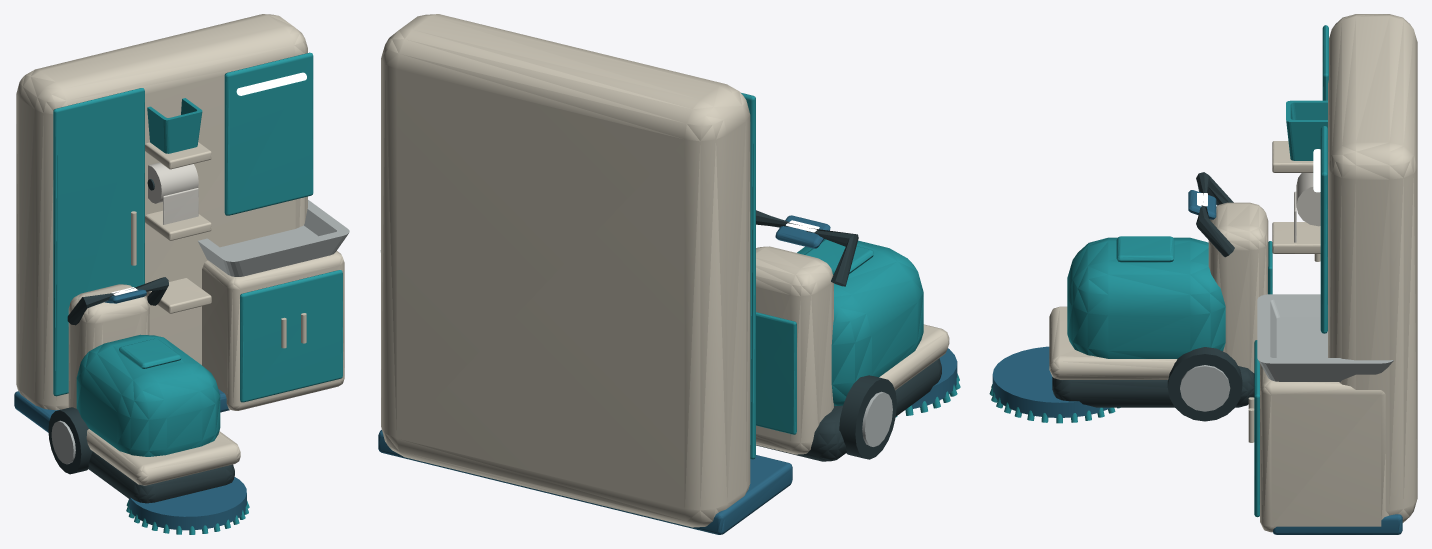
File: 10_janitor_advanced_assembly.glb
The picture shows the model from 3 angles, left to right: view 1: azimuth 30°, elevation 25°; view 2: azimuth 150°, elevation 25°; view 3: azimuth 270°, elevation 25°; orthographic projection. The views are drawn at different scales.
Parts seen in each view (by area): view 1: 10_advanced_integrated_station__Static, 10_advanced_floor_scrubber__Static; view 2: 10_advanced_integrated_station__Static, 10_advanced_floor_scrubber__Static; view 3: 10_advanced_integrated_station__Static, 10_advanced_floor_scrubber__Static.
Part boxes in pixels (bbox=[...]): 10_advanced_integrated_station__Static: bbox=[14, 14, 349, 432]; 10_advanced_floor_scrubber__Static: bbox=[48, 277, 249, 534]; 10_advanced_integrated_station__Static: bbox=[378, 14, 792, 534]; 10_advanced_floor_scrubber__Static: bbox=[756, 210, 960, 461]; 10_advanced_integrated_station__Static: bbox=[1248, 14, 1417, 534]; 10_advanced_floor_scrubber__Static: bbox=[989, 172, 1272, 423].
Bounding box in the file's own units: 2.21 × 2.26 × 2.3.
